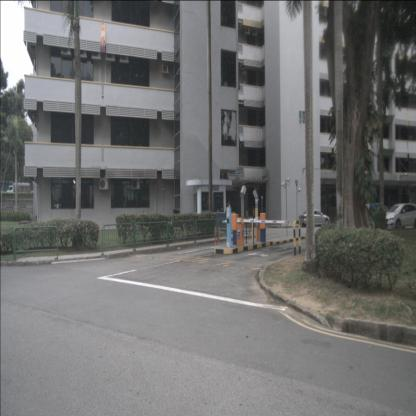human-pedestrian-adult: (228, 201, 231, 227)
movable_object-trafficcone: (218, 226, 221, 245), (214, 227, 217, 244)
vehicle-car: (382, 203, 415, 231), (298, 209, 330, 228)
vehicle-truck: (6, 182, 31, 198)
